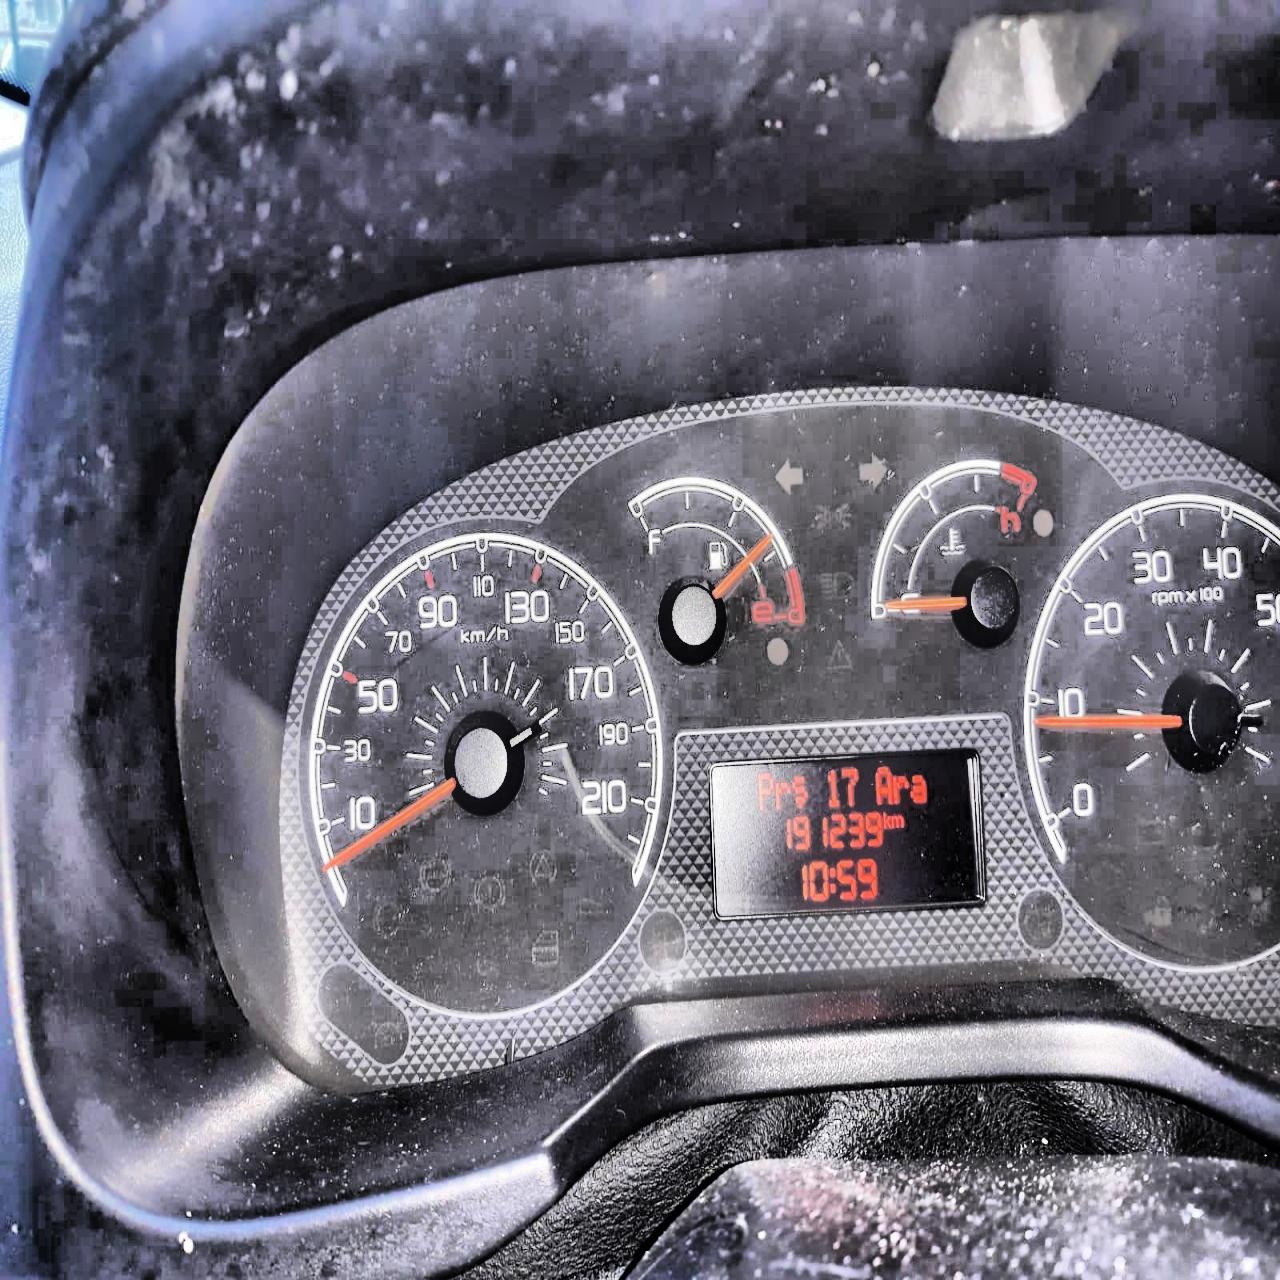0: (808, 859, 828, 899)
1: (826, 768, 838, 806), (801, 864, 808, 899), (784, 817, 791, 847), (822, 816, 828, 847)
2: (829, 813, 845, 847)
3: (847, 812, 864, 847)
5: (836, 859, 855, 899)
7: (840, 767, 857, 805)
9: (857, 858, 876, 898), (865, 811, 881, 846), (792, 815, 809, 849)
X: (756, 771, 774, 810), (874, 765, 892, 804), (790, 775, 808, 809), (774, 779, 790, 810), (891, 775, 908, 803), (910, 774, 926, 803), (829, 866, 836, 893), (891, 815, 903, 828), (883, 810, 891, 828)
odometer: (708, 747, 987, 920)
